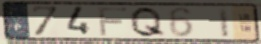4: (66, 5, 95, 38)
6: (167, 6, 196, 39)
7: (31, 5, 59, 38)
F: (96, 7, 129, 37)
I: (217, 7, 232, 39)
Q: (128, 6, 168, 38)
